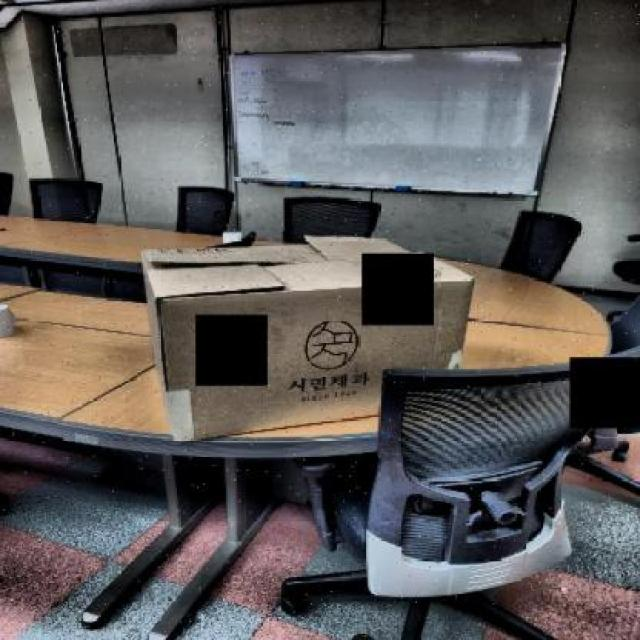box: (138, 231, 494, 455)
